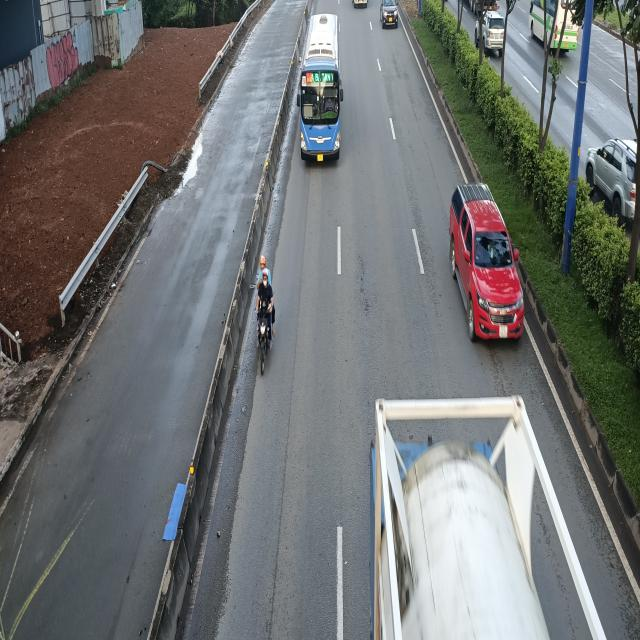car: (450, 186, 525, 347), (380, 0, 399, 27)
coach: (299, 13, 347, 162)
